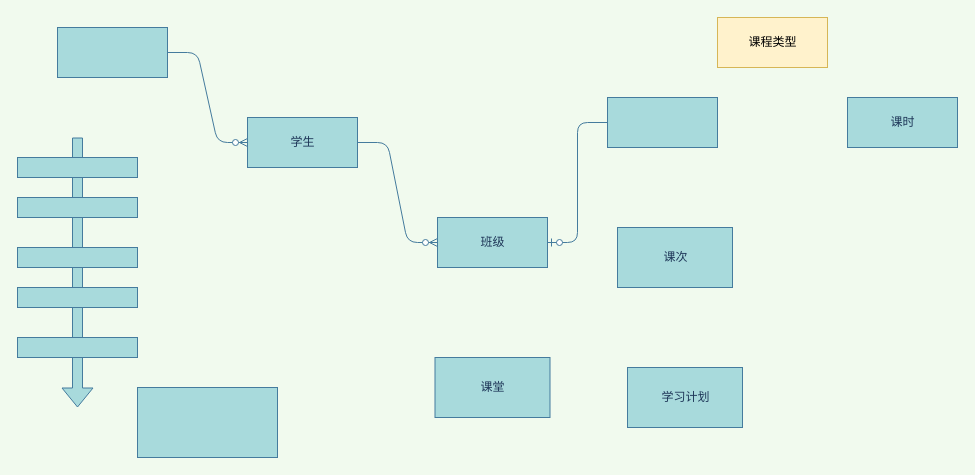
The diagram is 975 pixels wide and 475 high, and some of its shapes have lost their labels. Here are the shapes that lost their labels. From the top down, the centre of each, then its label:
At (x=112, y=52): "用户".
At (x=662, y=122): "课程 （课程类型，学科）".
At (x=207, y=422): "参课记录（上课记录）".
